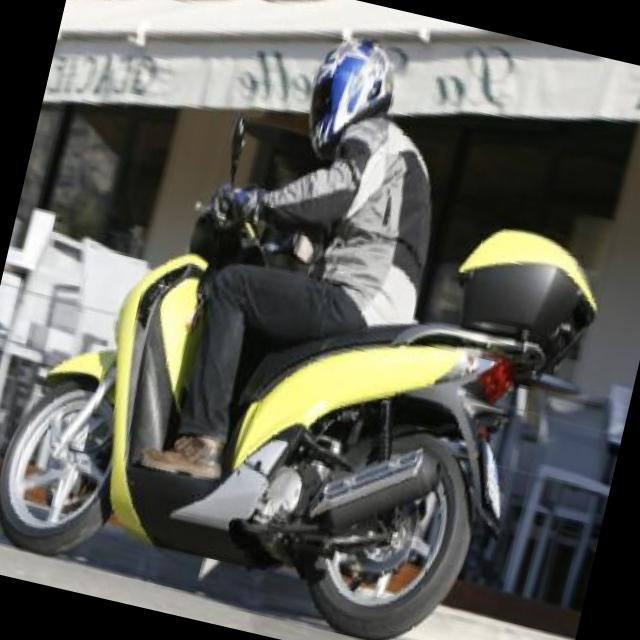With Helmet: (293, 19, 410, 172)
